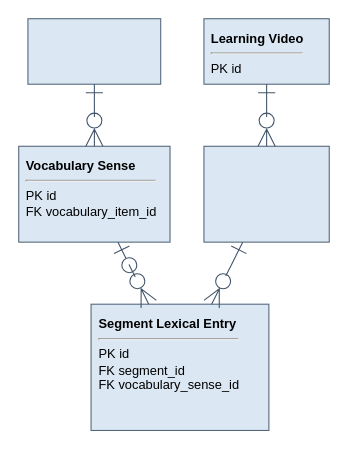
Some shapes in this 349 by 449 pixel diagram are drawn without their labels. The box of each missing label's shape, as (x1, y1, x2, y2) in pixels:
Video Segment PK id FK video_id: (203, 145, 329, 242)
Vocabulary Item PK id: (27, 18, 161, 84)
